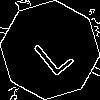L: (25, 25, 76, 78)
